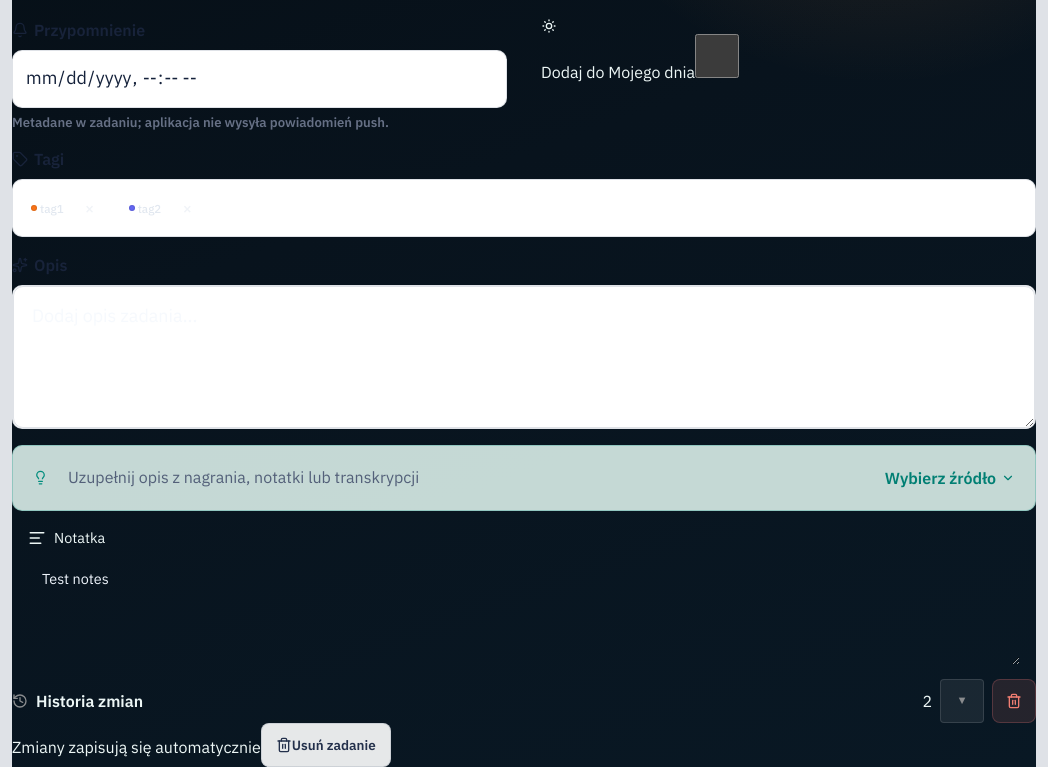
TaskDetailsPanel › expands history when toggle button clicked
The image size is (1048, 767).
(page scrolled)
# Button has title attribute with the text, not accessible name
Click the button titled "Pokaż historię": [962, 701] box [940, 679, 984, 723]
(page scrolled)
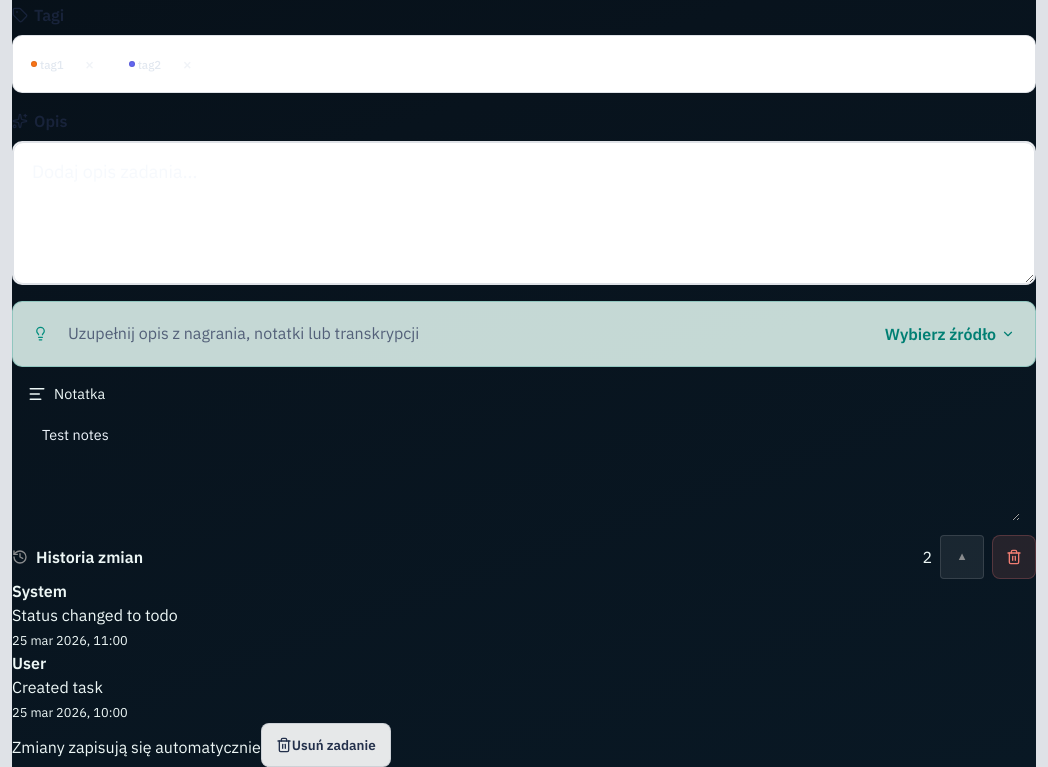
Check: the text "User" is shown, box [12, 653, 46, 673]
Check: the text "Created task" is shown, box [12, 677, 103, 697]
Check: the text "System" is shown, box [12, 581, 67, 601]
